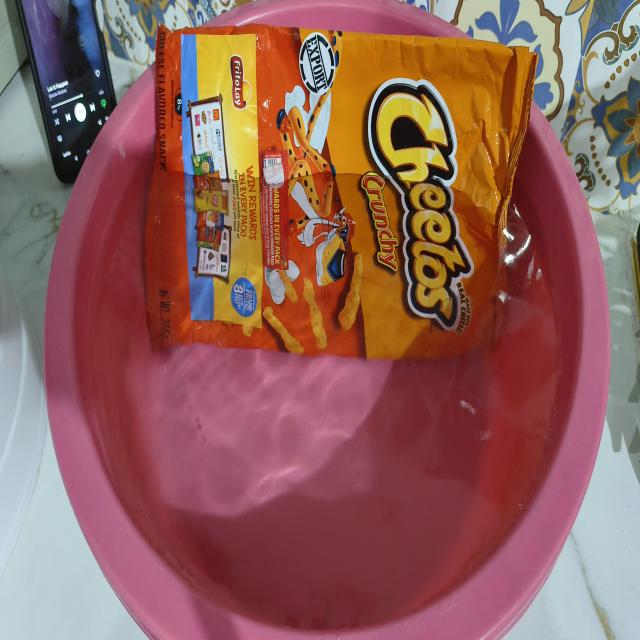Plastic Wrapper: (145, 24, 537, 359)
